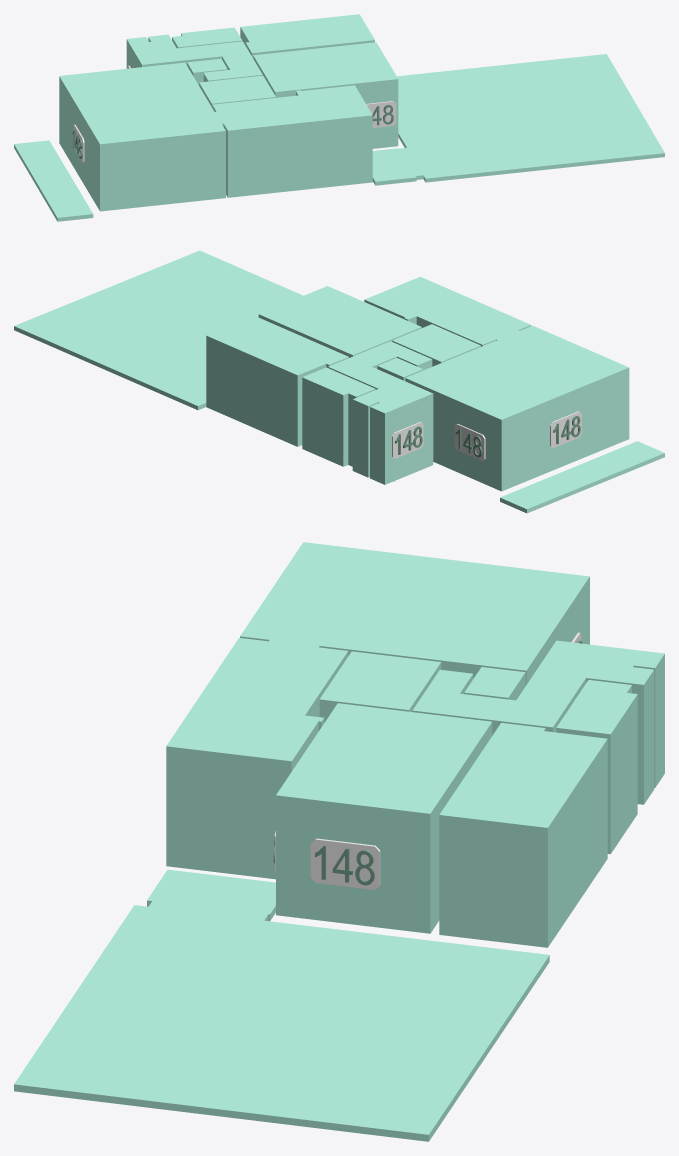
The picture shows the model from 3 angles, top to bottom: view 1: azimuth 30°, elevation 25°; view 2: azimuth 150°, elevation 25°; view 3: azimuth 270°, elevation 25°; orthographic projection. The views are drawn at different scales.
Parts seen in each view (by area): view 1: g_8, g_1, g_0, g_6, g_7, g_4, g_9, g_2, g_5, g_3, g_21; view 2: g_1, g_8, g_7, g_4, g_6, g_0, g_5, g_9, g_2, g_25, g_29, g_17 (+1 smaller); view 3: g_8, g_6, g_1, g_7, g_0, g_4, g_5, g_2, g_13, g_3.
Boxes of the visible parts, <box> form: g_8: <box>372,54,664,185</box>; g_1: <box>59,62,225,211</box>; g_0: <box>212,85,372,197</box>; g_6: <box>253,42,398,148</box>; g_7: <box>240,14,374,58</box>; g_4: <box>126,34,262,81</box>; g_9: <box>14,140,93,221</box>; g_2: <box>199,75,275,107</box>; g_5: <box>172,27,242,48</box>; g_3: <box>187,58,227,84</box>; g_21: <box>366,101,396,127</box>; g_1: <box>405,325,629,491</box>; g_8: <box>14,250,303,410</box>; g_7: <box>206,316,348,446</box>; g_4: <box>328,341,433,484</box>; g_6: <box>258,286,421,357</box>; g_0: <box>364,276,531,346</box>; g_5: <box>302,367,375,466</box>; g_9: <box>500,441,664,513</box>; g_2: <box>392,324,480,366</box>; g_25: <box>454,424,485,460</box>; g_29: <box>550,411,581,448</box>; g_17: <box>392,422,423,458</box>; g_8: <box>14,869,549,1141</box>; g_6: <box>276,703,492,933</box>; g_1: <box>240,542,589,685</box>; g_7: <box>439,723,607,947</box>; g_0: <box>166,638,348,879</box>; g_4: <box>412,640,664,804</box>; g_5: <box>556,680,637,854</box>; g_2: <box>319,651,441,722</box>; g_13: <box>310,838,380,889</box>; g_3: <box>464,667,525,700</box>.
Bounding box in the file's own units: 23.26 × 2.74 × 12.67.
